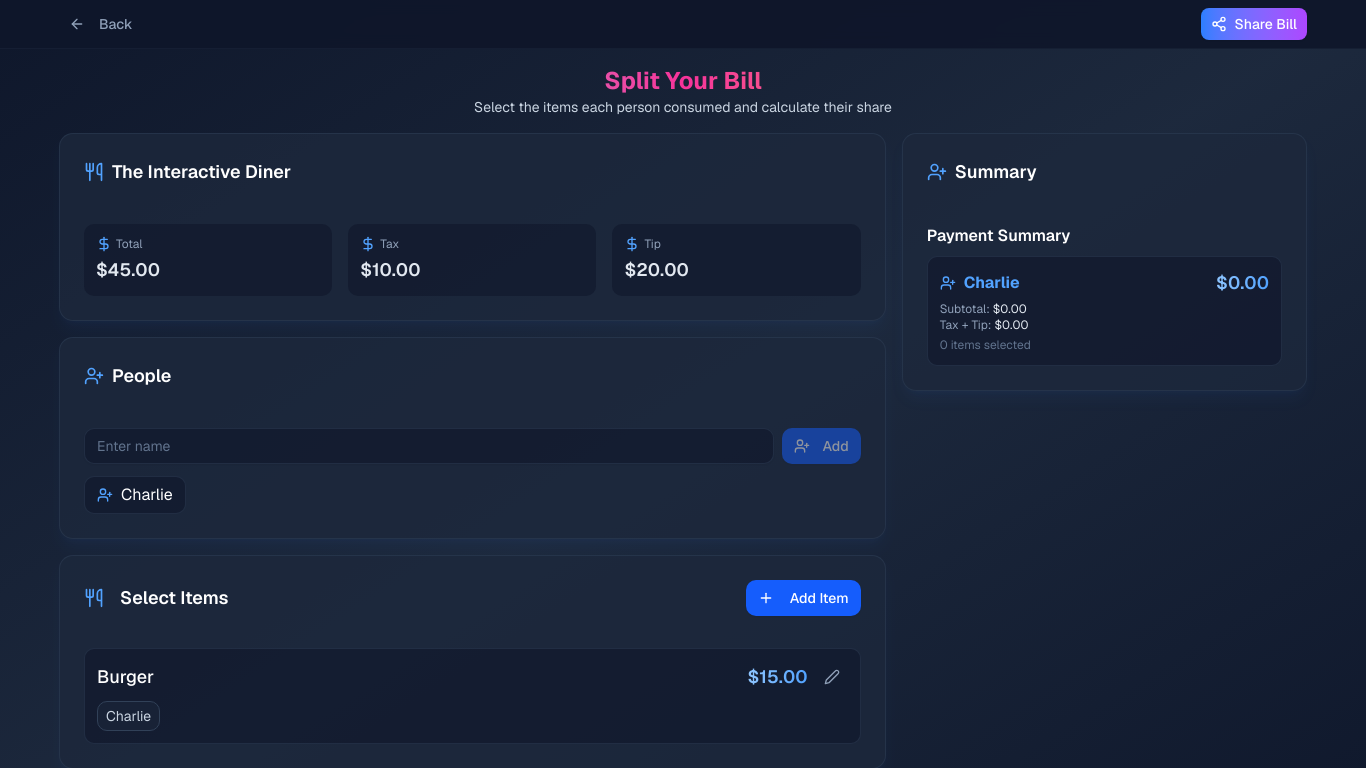
Test: SplitBillClient User Interactions › should show the input when clicking on the tax display
Click the text with test id "tax-display": coordinates (390, 270) top-left (360, 256), bottom-right (421, 284)
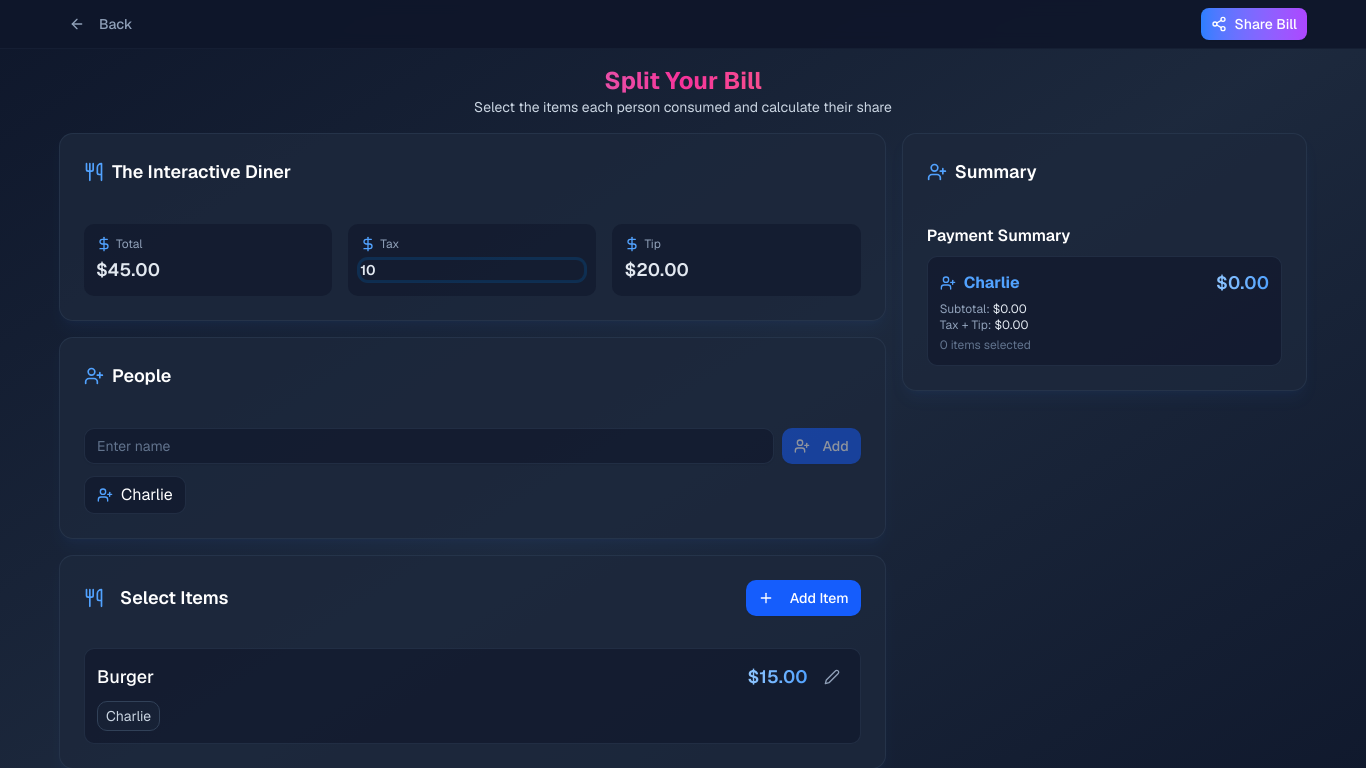
Check: the number field with test id "tax-input" holds "10", box top-left (360, 260), bottom-right (584, 280)
